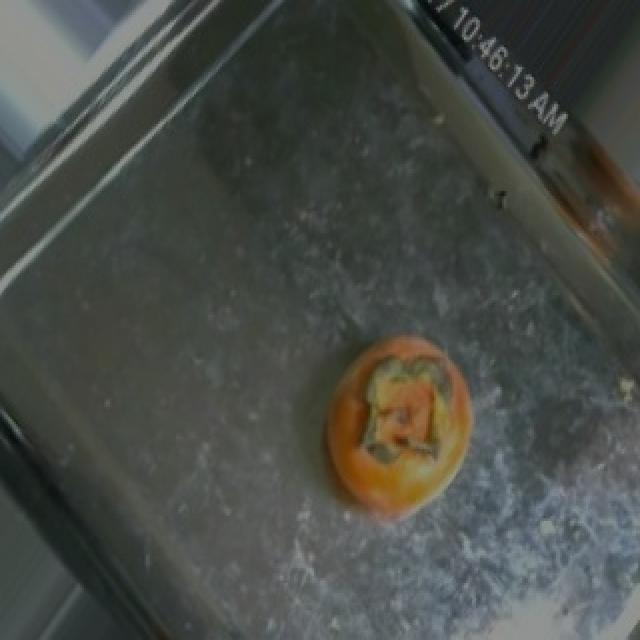Fruit: (304, 312, 492, 540)
